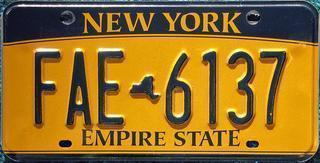placa de veiculo: (5, 0, 313, 157)
